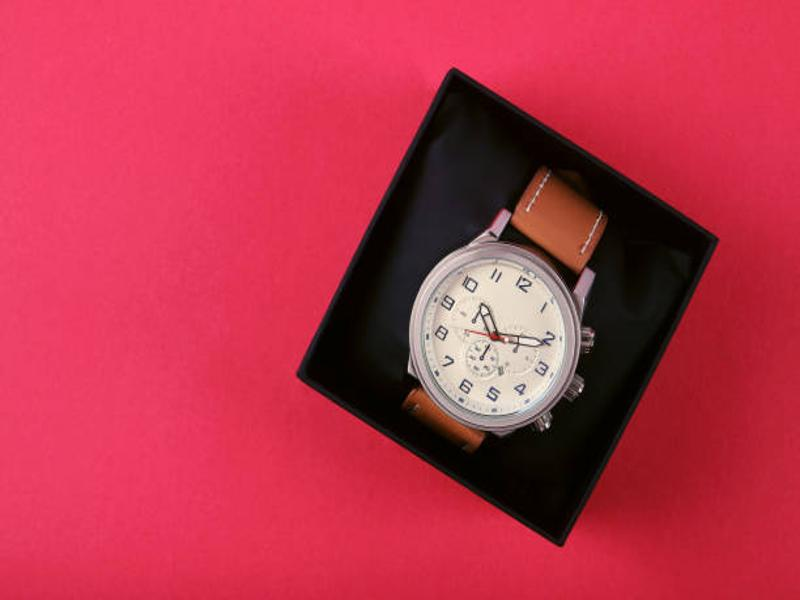watch: (403, 166, 610, 443)
